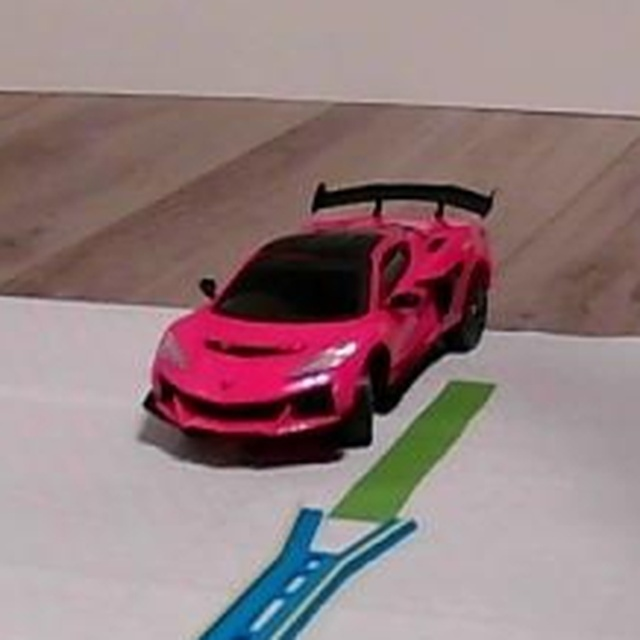tire_front_driver: (340, 365, 380, 440)
tire_rear_driver: (448, 300, 490, 350)
